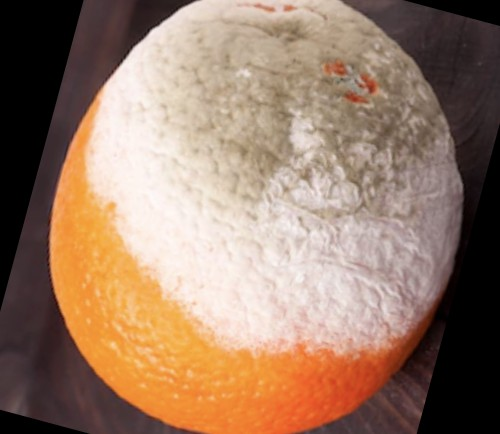rotten_orange: (51, 1, 461, 434)
